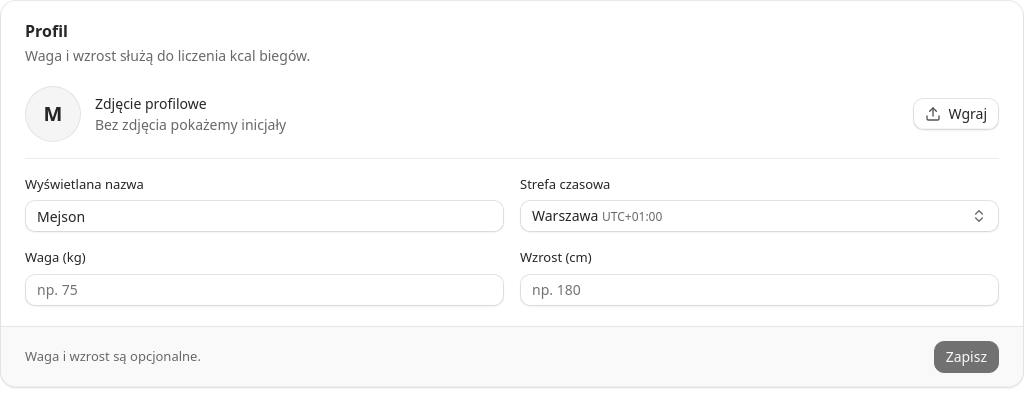
Scenario: ProfileCard › „Cofnij” przywraca zapisane wartości
The width and height of the screenshot is (1024, 405).
Type "XYZ" into the field labelled "Wyświetlana nazwa".
click(264, 216); type("XYZ")  # box top-left (25, 200), bottom-right (504, 232)
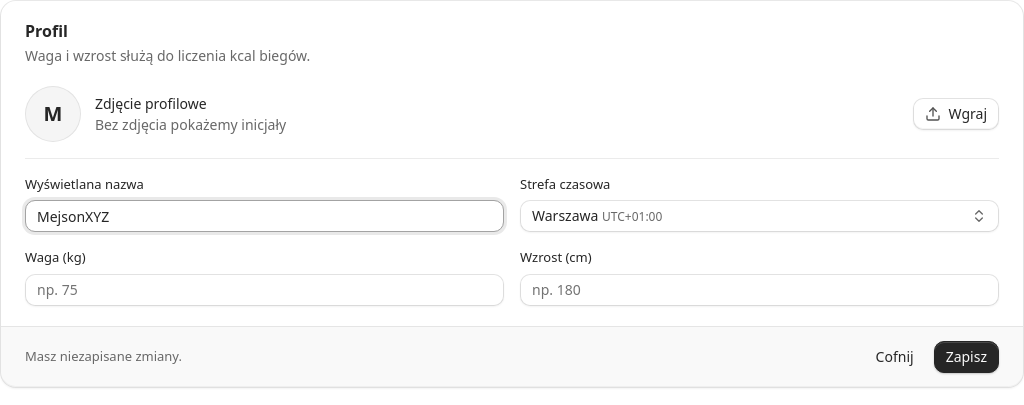
Click the button "Cofnij".
click(895, 357)  # box top-left (864, 341), bottom-right (926, 373)
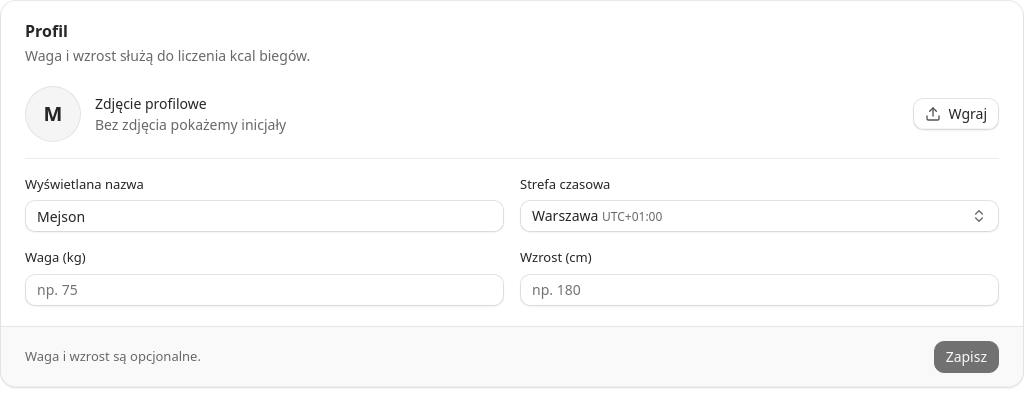
Check: the field labelled "Wyświetlana nazwa" holds "Mejson", box top-left (25, 200), bottom-right (504, 232)
Check: the button "Cofnij" is gone
